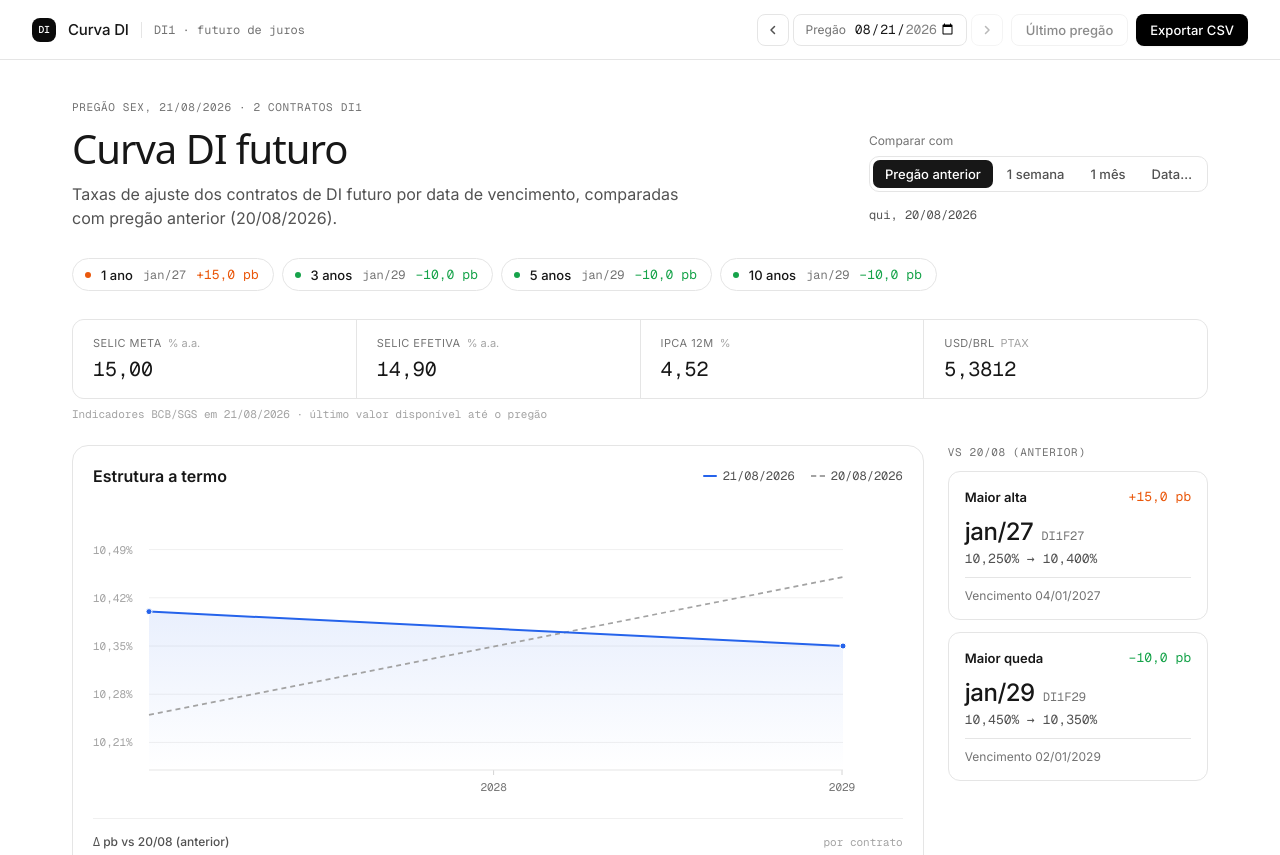
Test: App › trocar para pregão anterior à data custom limpa a data
Click the button "Data…" at x=1172, y=174, box [1140,160,1204,188]
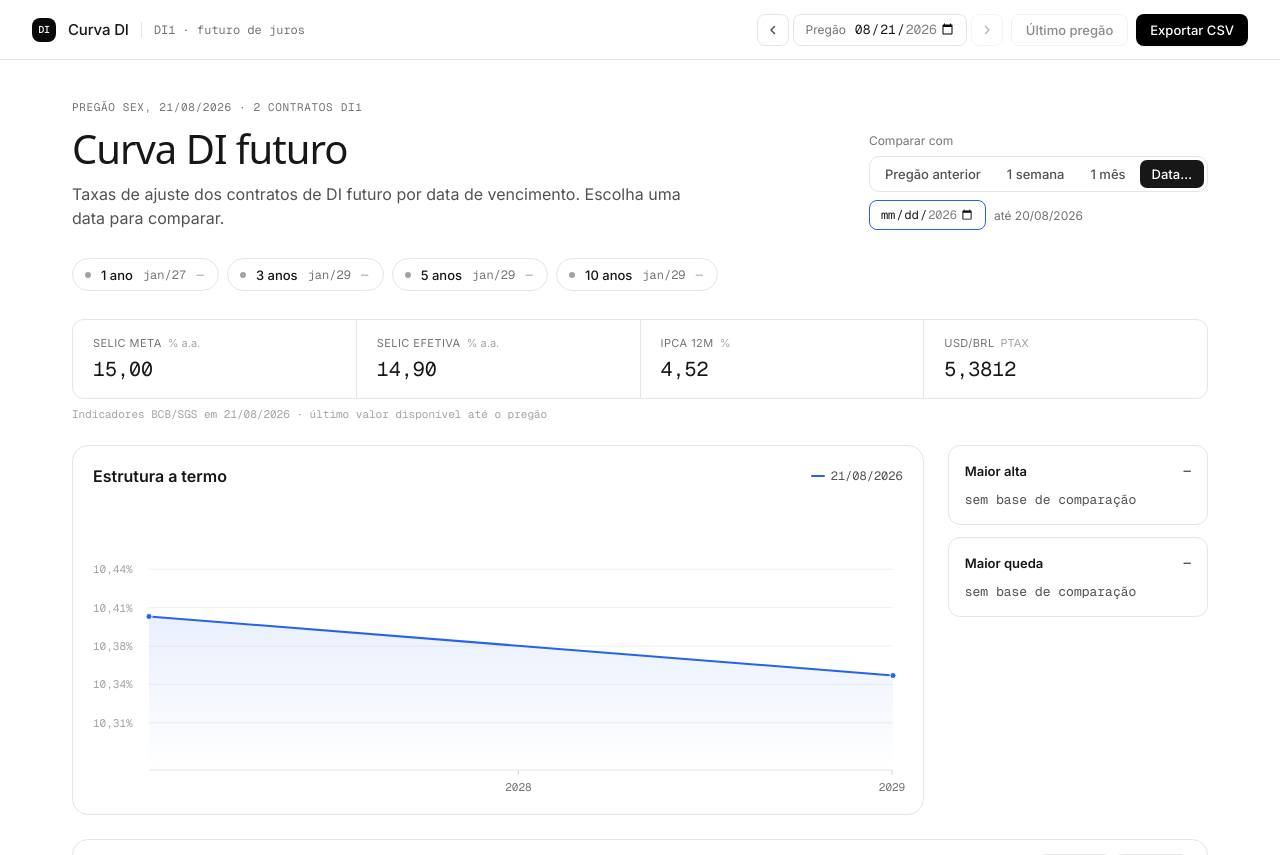
Type "2026-08-20" into the date field named "Data de comparação" at x=927, y=215, box [880,206,975,224]
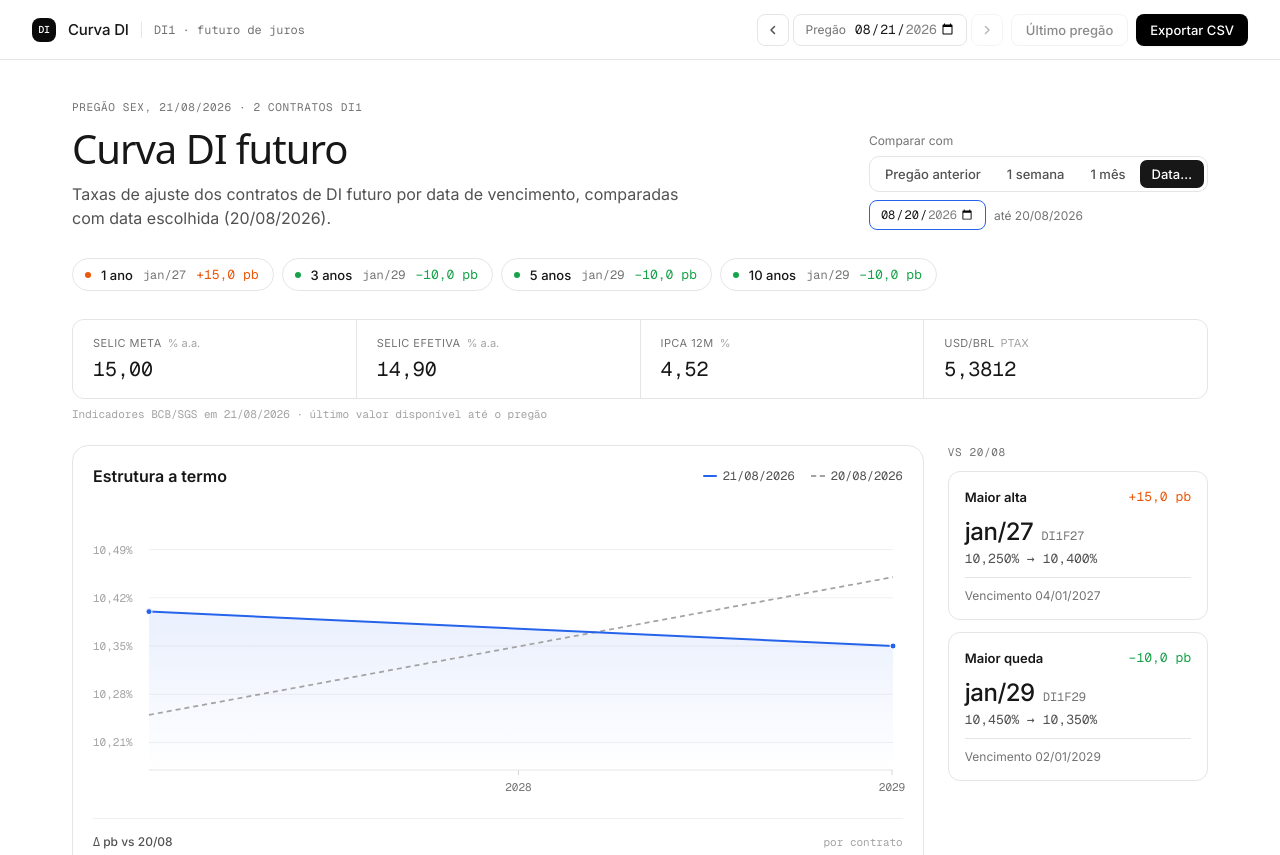
Check: the element with test id "legend-base" is shown, box [811,468,903,484]
# volta para 20/08: custom (20/08) ficaria ≥ pregão
Click the button named "Pregão anterior" at x=773, y=30, box [757,14,789,46]
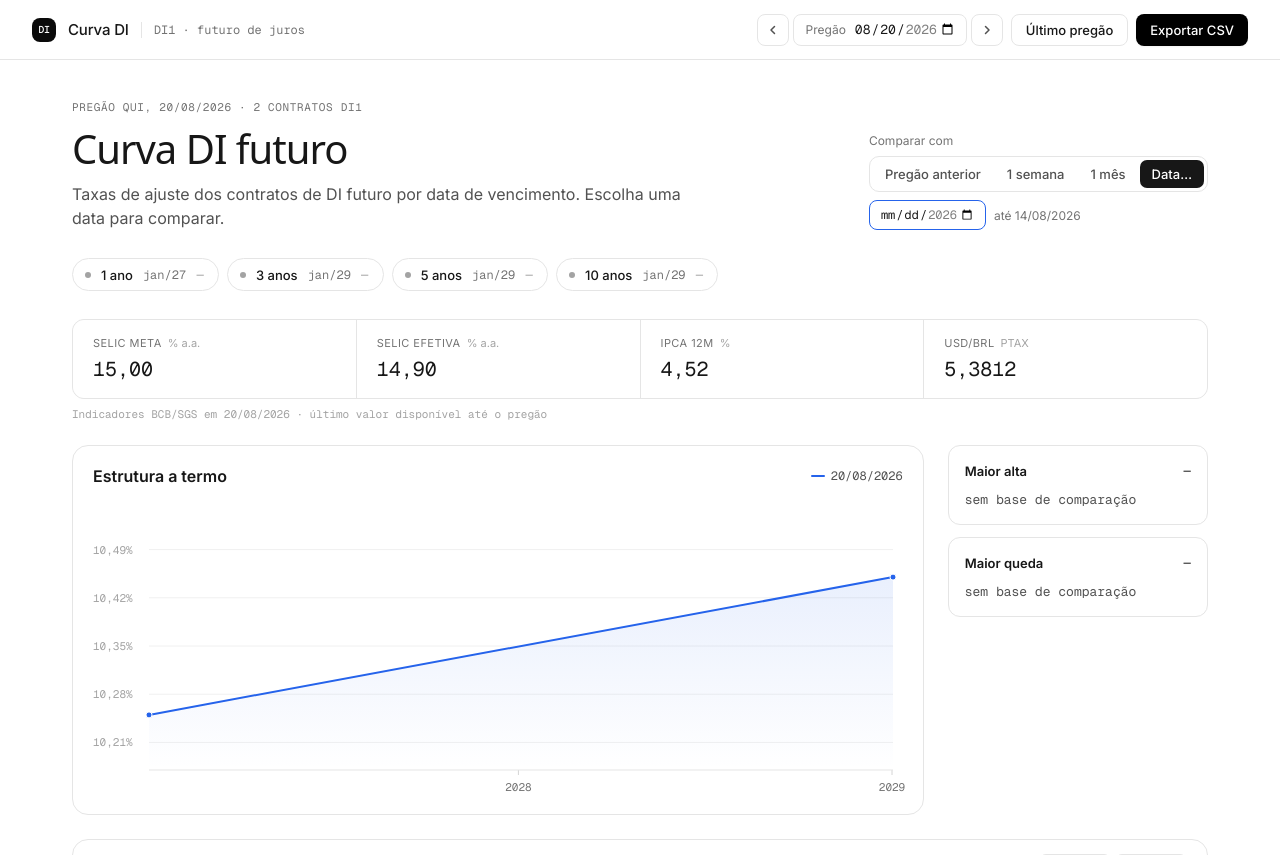
Check: the date field named "Data de comparação" is empty, box [880,206,975,224]
Check: the element with test id "legend-base" is gone
